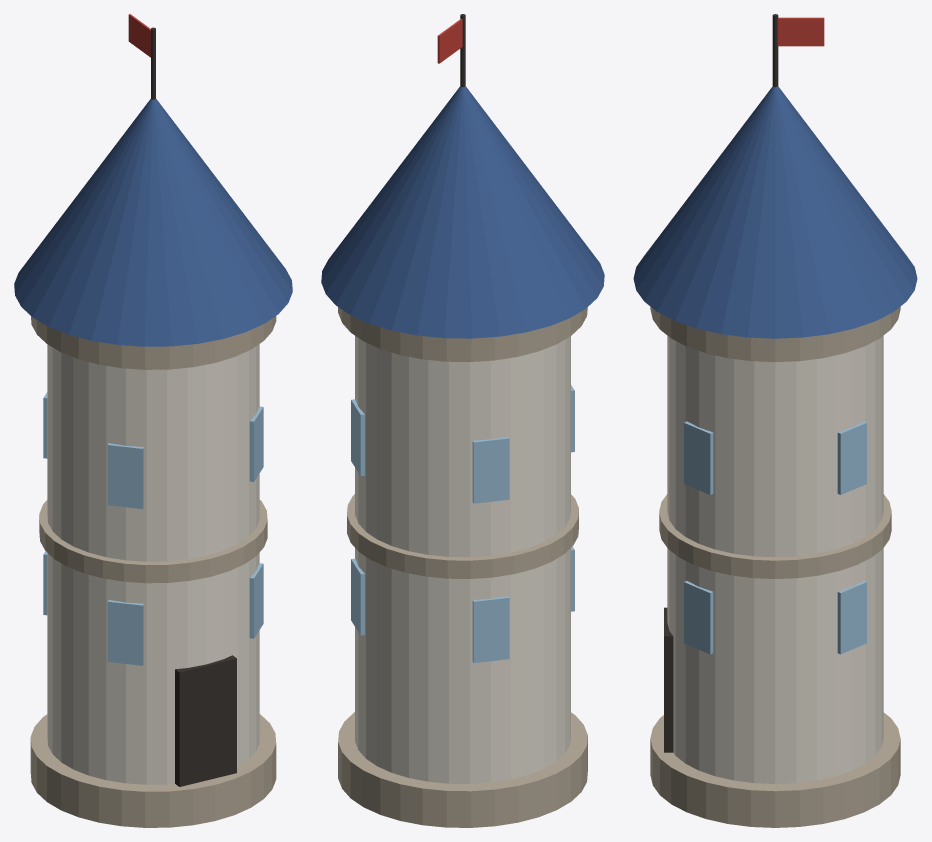
File: tower.glb
3 views of the same model, side by side, from view 1: azimuth 30°, elevation 25°; view 2: azimuth 150°, elevation 25°; view 3: azimuth 270°, elevation 25° (orthographic).
Parts seen in each view (by area): view 1: body, roof, base, door, band, top, win_3_0, win_3_1, win_0_0, win_0_1, flag; view 2: body, roof, base, band, top, win_2_0, win_2_1, win_1_0, win_1_1, flag; view 3: body, roof, base, band, top, win_0_1, win_1_1, win_0_0, win_1_0, flag, door.
Boxes of the visible parts, x1,y1,x2,y2 form: body: (47, 344, 259, 784); roof: (14, 99, 292, 346); base: (30, 714, 276, 827); door: (175, 655, 236, 786); band: (39, 500, 267, 583); top: (31, 316, 276, 369); win_3_0: (107, 600, 143, 665); win_3_1: (107, 443, 143, 508); win_0_0: (249, 563, 263, 638); win_0_1: (249, 406, 263, 481); flag: (128, 14, 150, 57); body: (355, 336, 570, 783); roof: (321, 86, 604, 338); base: (338, 712, 587, 827); band: (347, 494, 578, 578); top: (338, 307, 587, 361); win_2_0: (472, 596, 509, 662); win_2_1: (472, 436, 509, 503); win_1_0: (351, 558, 364, 635); win_1_1: (351, 399, 364, 475); flag: (437, 19, 462, 63); body: (667, 335, 883, 783); roof: (633, 86, 917, 338); base: (650, 712, 900, 827); band: (659, 494, 891, 578); top: (650, 306, 900, 362); win_0_1: (684, 421, 713, 494); win_1_1: (837, 421, 866, 494); win_0_0: (684, 581, 713, 654); win_1_0: (837, 581, 866, 654); flag: (777, 17, 824, 46); door: (664, 607, 673, 752).
Size of the model in its own units: 4.2 by 12.4 by 4.2.
